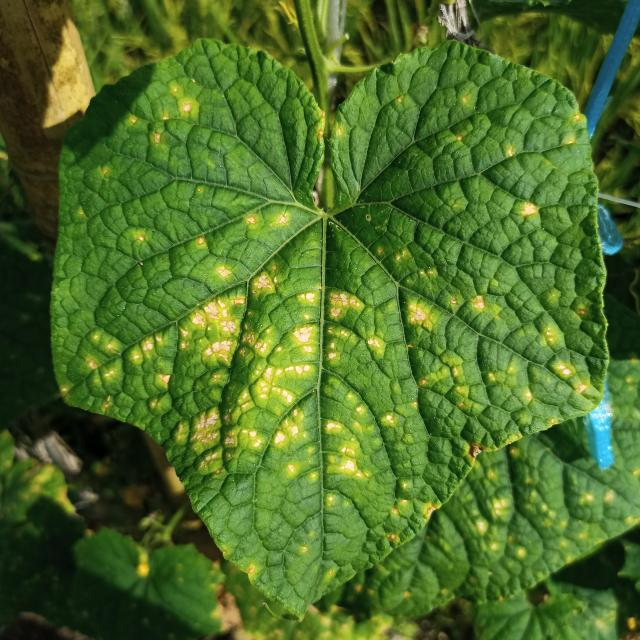disease_cucumber: (103, 79, 589, 576)
